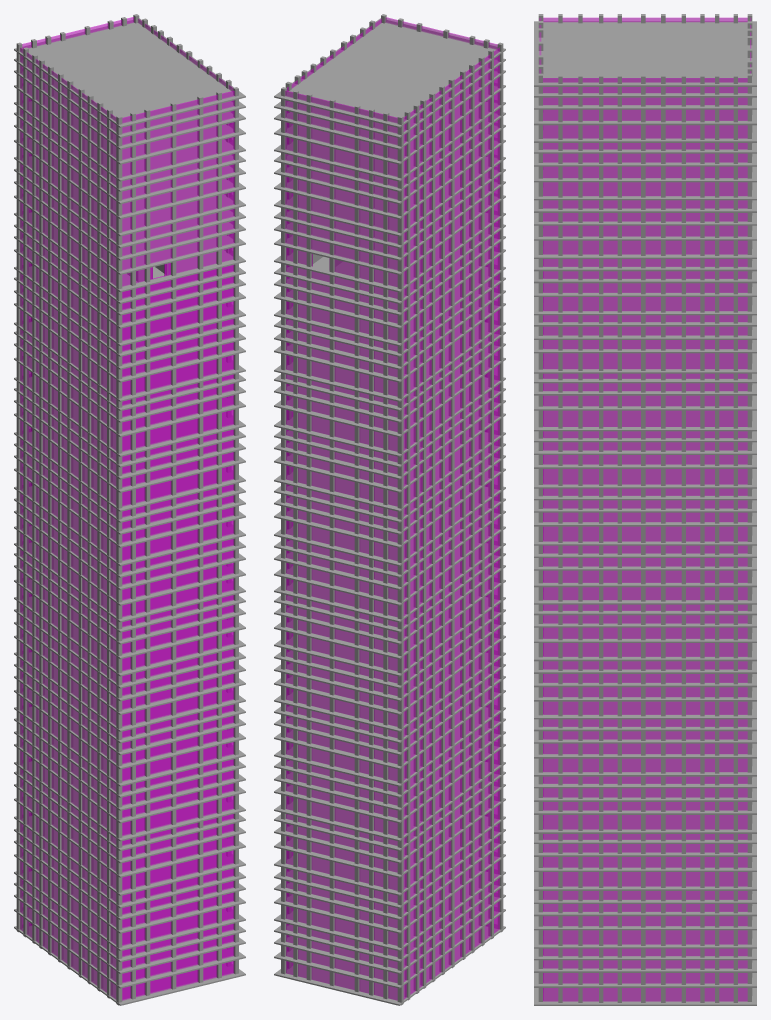
Rendered from Building_010.fbx.
3 renders of one model, left to right at view 1: azimuth 30°, elevation 25°; view 2: azimuth 150°, elevation 25°; view 3: azimuth 270°, elevation 25°, orthographic. The views are drawn at different scales.
Visible parts, largest first — view 1: Posts1; view 2: Posts1; view 3: Posts1.
Part boxes in pixels (x1,y1,x2,y2): Posts1: [14, 14, 245, 1005]; Posts1: [274, 14, 505, 1005]; Posts1: [534, 14, 756, 1005].
Size of the model in its own units: 33.95 by 229 by 49.83.
